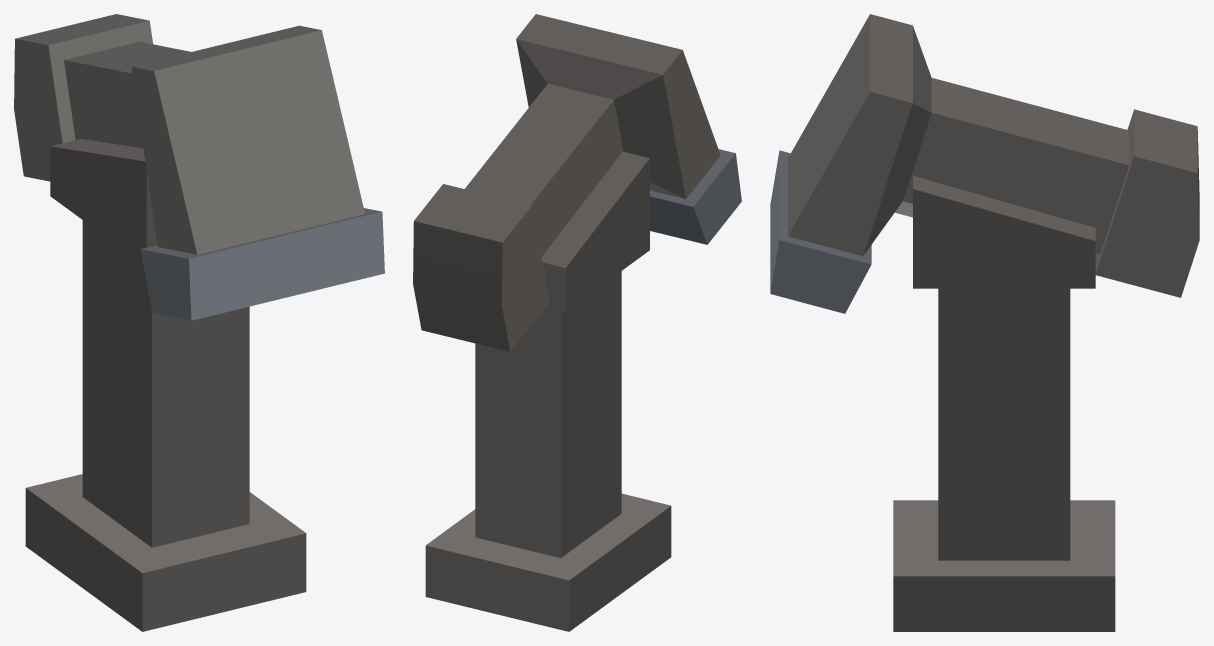
File: Scanner.glb
3 renders of one model, left to right at view 1: azimuth 30°, elevation 25°; view 2: azimuth 150°, elevation 25°; view 3: azimuth 270°, elevation 25°, orthographic. The views are drawn at different scales.
Visible parts, largest first — view 1: SI_Prop_Scanner_01, SI_Prop_Scanner_Handle_01; view 2: SI_Prop_Scanner_01, SI_Prop_Scanner_Handle_01; view 3: SI_Prop_Scanner_01, SI_Prop_Scanner_Handle_01.
Boxes of the visible parts, x1,y1,x2,y2 form: SI_Prop_Scanner_01: [25, 138, 306, 631]; SI_Prop_Scanner_Handle_01: [14, 14, 384, 320]; SI_Prop_Scanner_01: [425, 151, 671, 631]; SI_Prop_Scanner_Handle_01: [413, 14, 741, 351]; SI_Prop_Scanner_01: [893, 176, 1115, 631]; SI_Prop_Scanner_Handle_01: [770, 14, 1199, 313].
Bounding box in the file's own units: 0.00251 × 0.00698 × 0.00501.
1 material, 1 textured.
